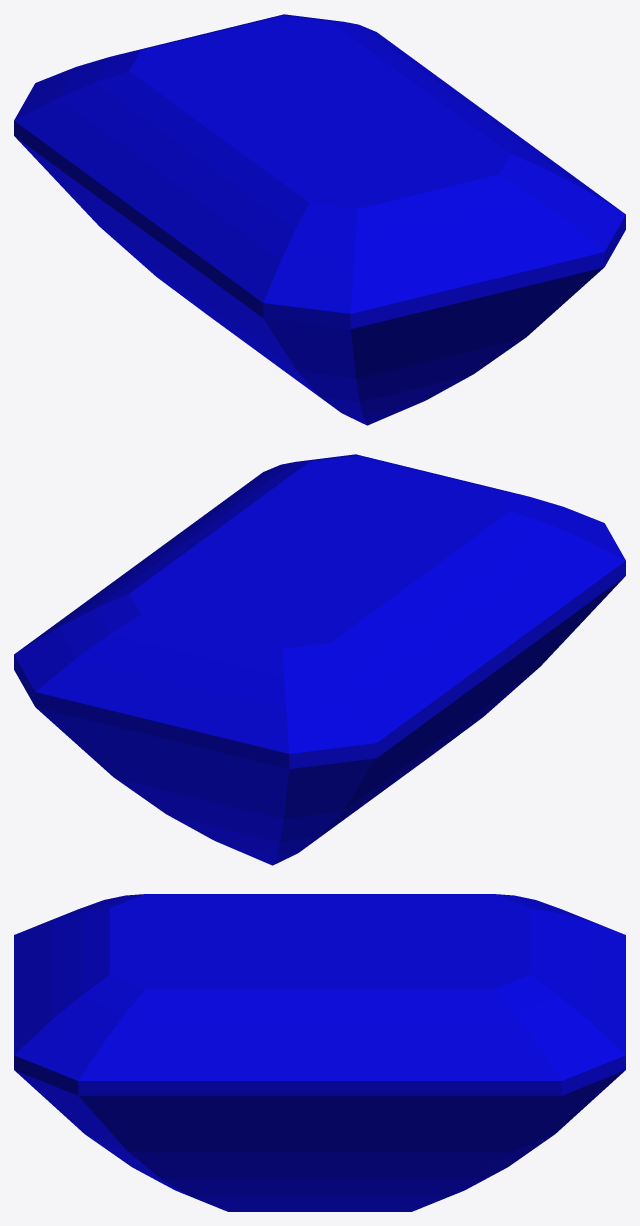
File: Head_Single Halo_Emerald_0.50ct_Diamond.glb
3 renders of one model, top to bottom at view 1: azimuth 30°, elevation 25°; view 2: azimuth 150°, elevation 25°; view 3: azimuth 270°, elevation 25°, orthographic. The views are drawn at different scales.
Bounding box in the file's own units: 0.00377 × 0.00277 × 0.00568.
